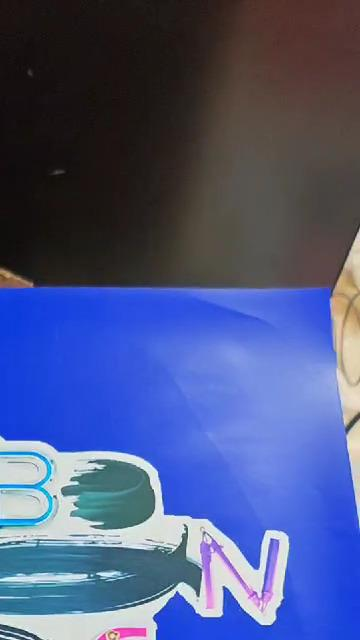B_R1: (0, 437, 288, 640)
